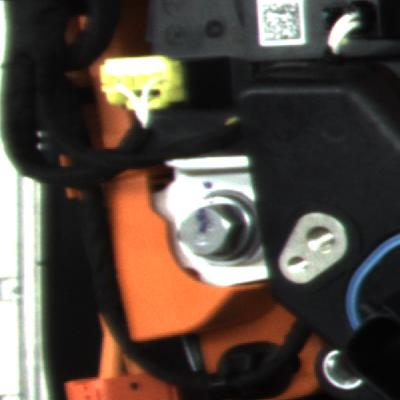nut_b: (162, 181, 278, 280)
